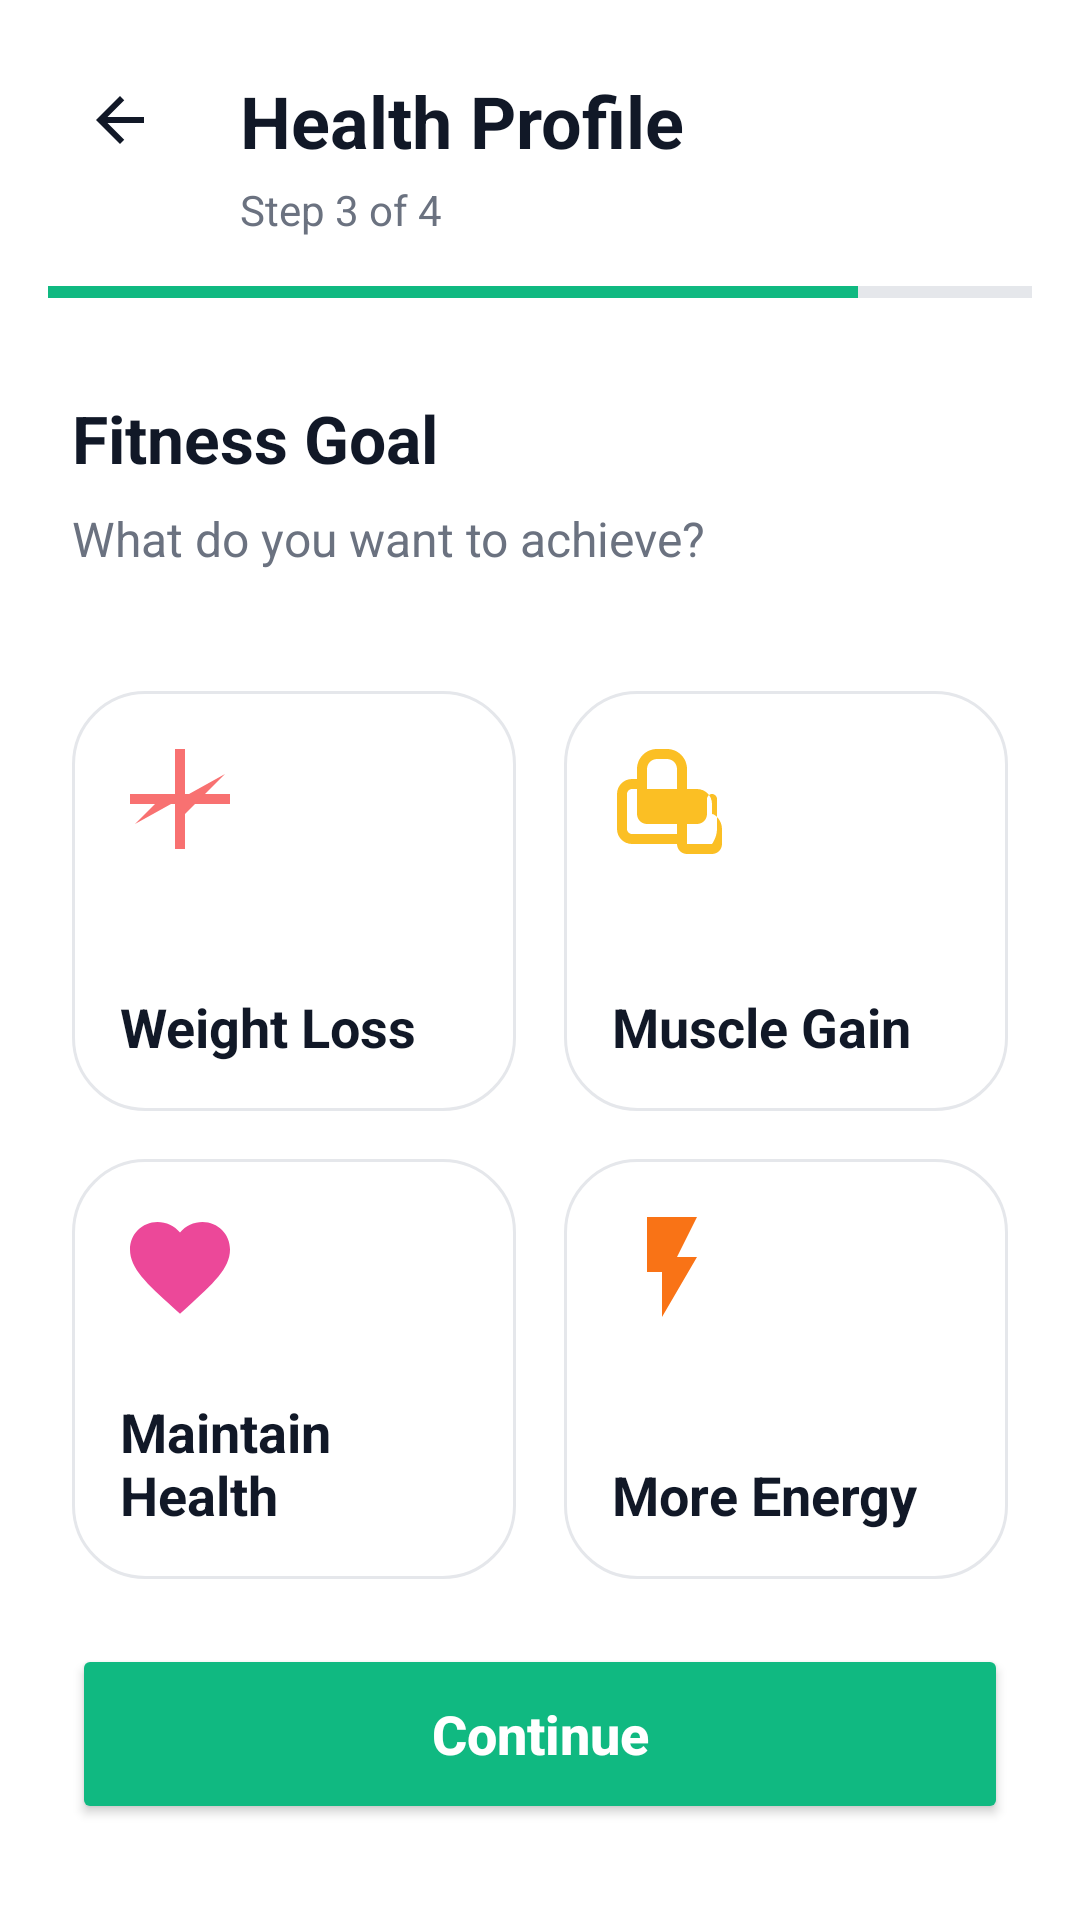

Icon click points for this 1080 x 1920 phone screenshot, format point (x, y):
arrow back: point (120, 120)
lightning: point (672, 1267)
